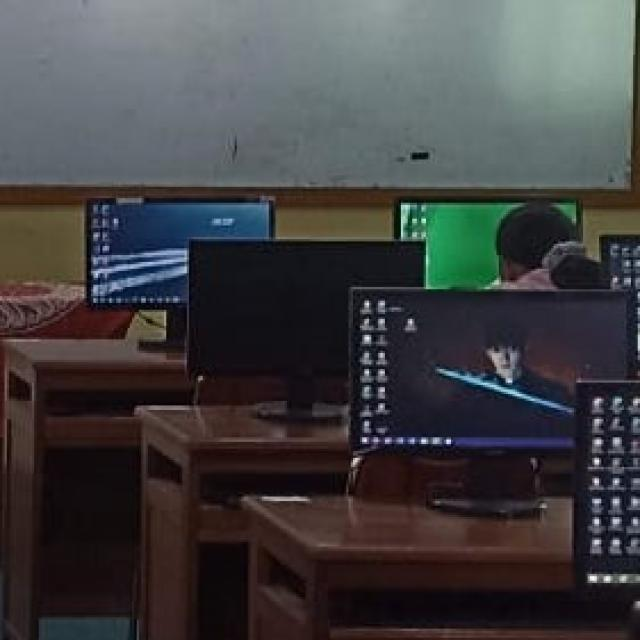onscreen: (351, 291, 628, 450), (188, 240, 424, 374), (90, 202, 270, 306), (579, 381, 640, 593), (400, 202, 522, 288), (604, 236, 640, 361)
